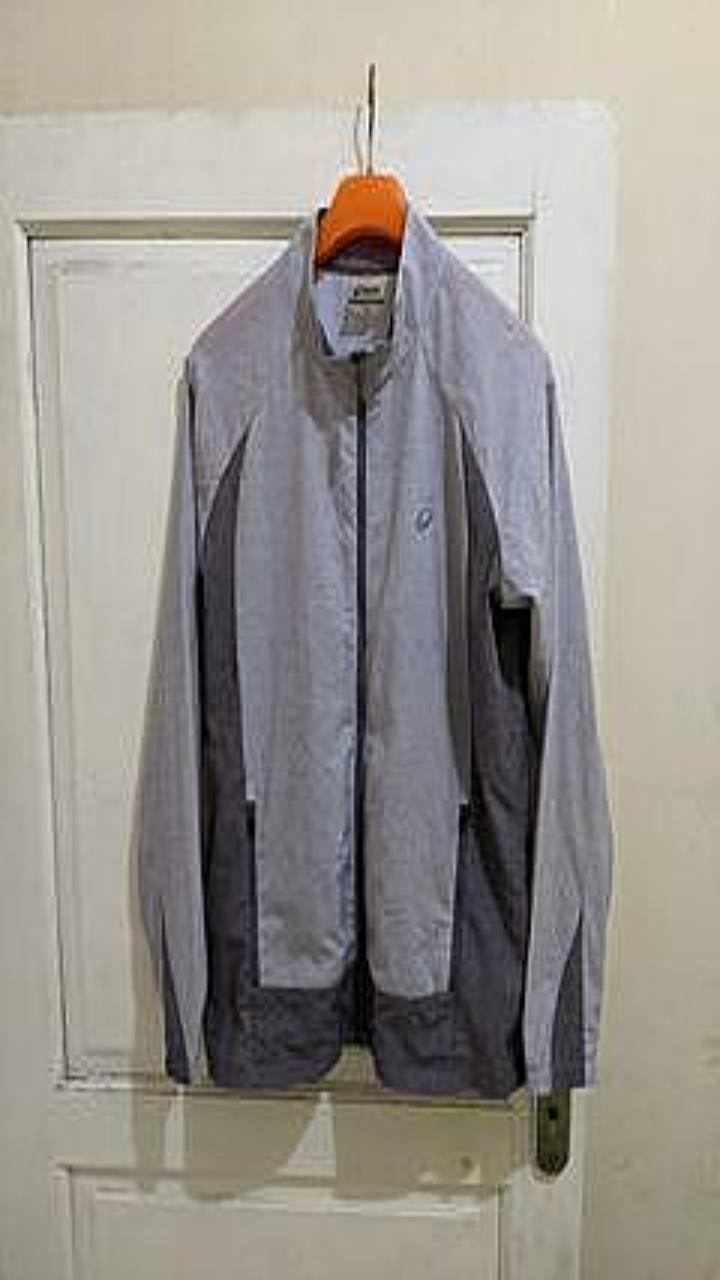Sports_Jacket: (136, 201, 612, 1097)
